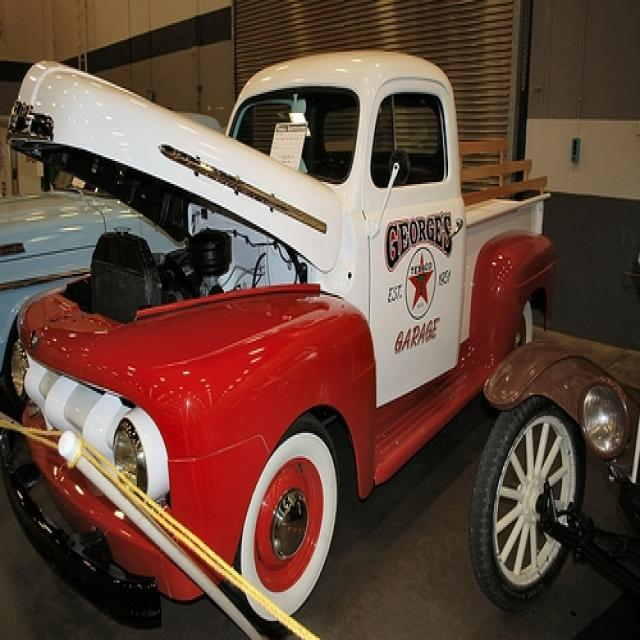texaco: (406, 248, 440, 317)
